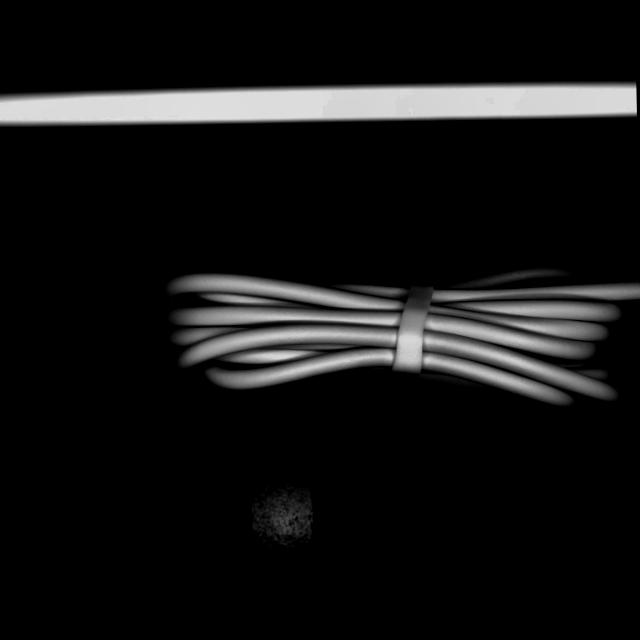Cable: (149, 255, 640, 422)
